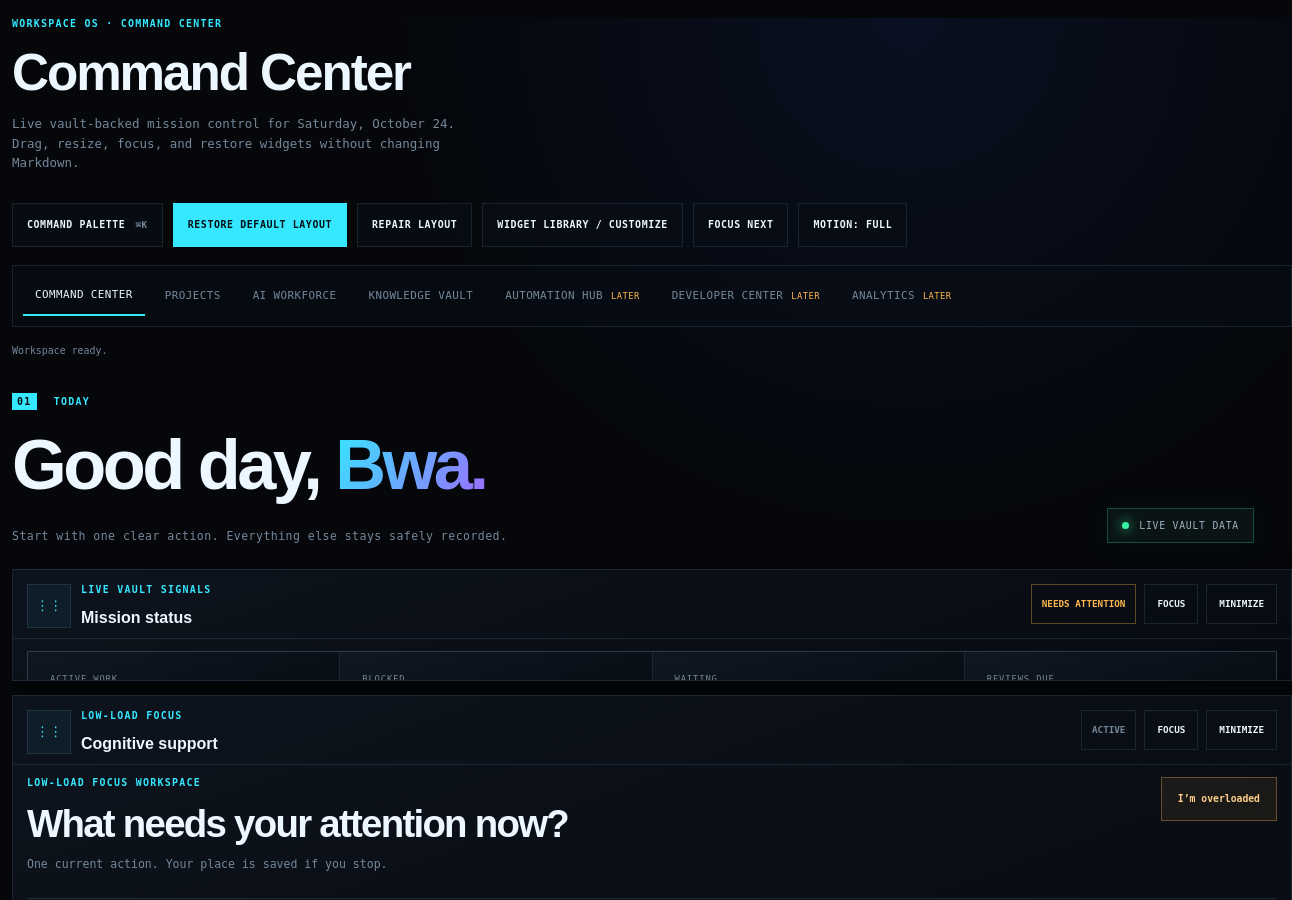
Scenario: Workspace OS Command Center › focuses the next widget via toolbar control
The image size is (1292, 900).
Click the button "Focus next": click(741, 225) 693,203 -> 788,247
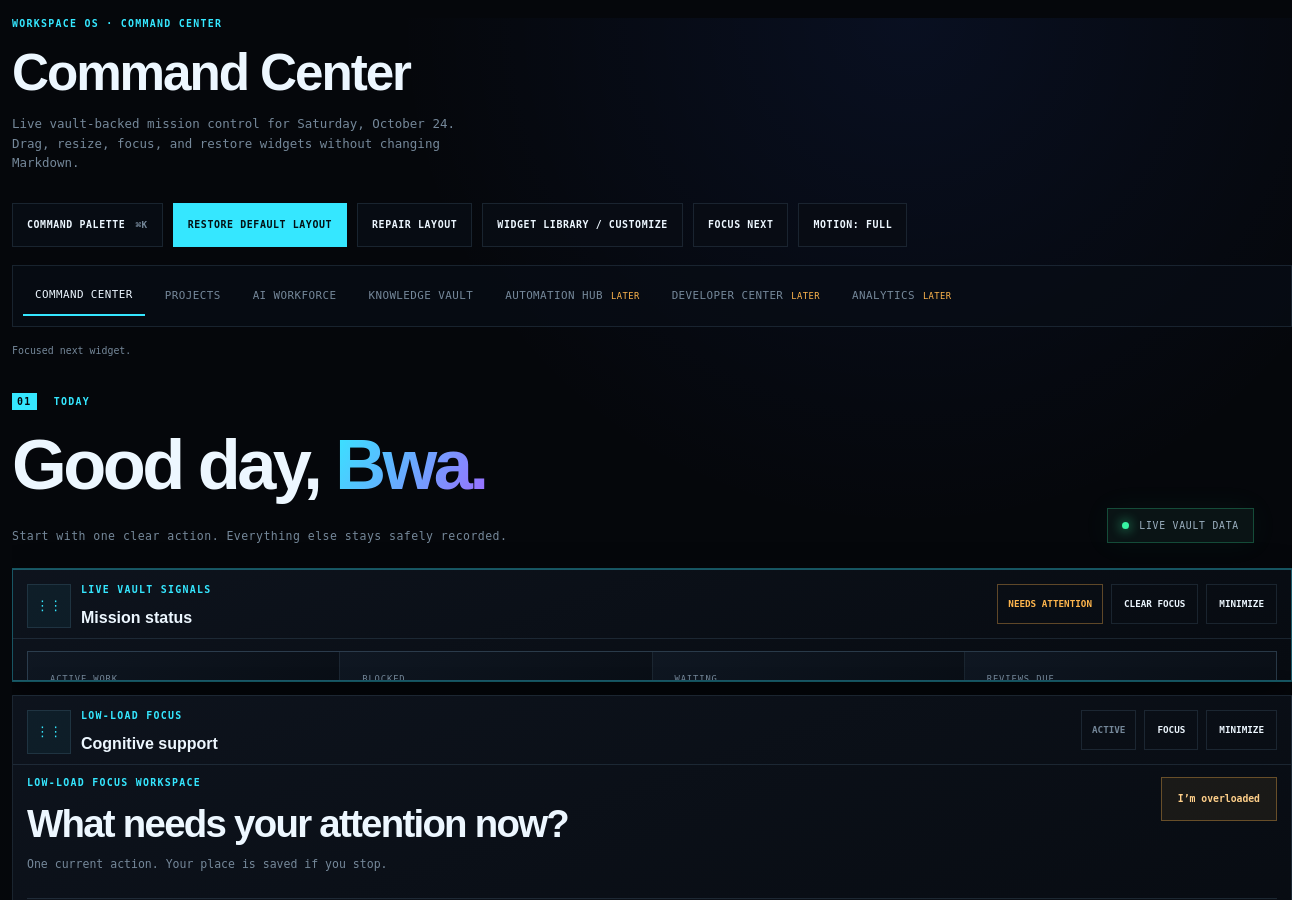
Expected: the element with class "is-focused" is shown, 12,569 -> 1291,681
